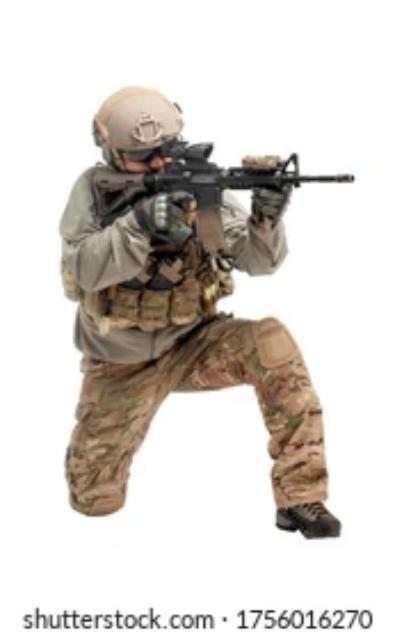other: (59, 88, 236, 532)
